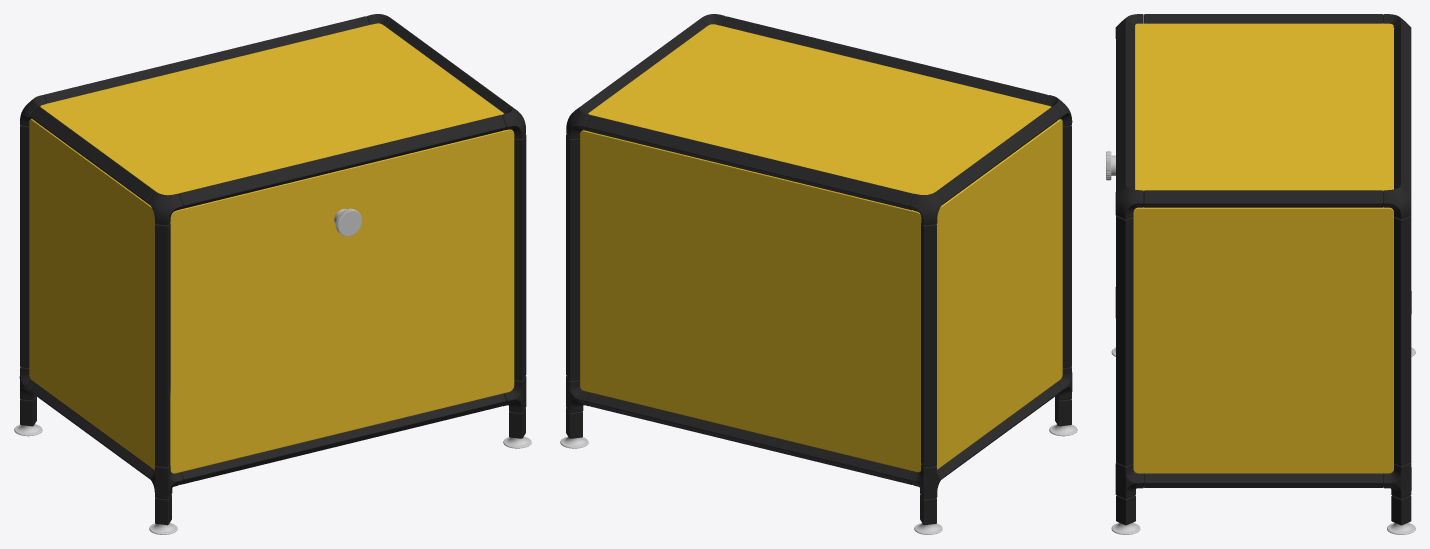
The picture shows the model from 3 angles, left to right: view 1: azimuth 30°, elevation 25°; view 2: azimuth 150°, elevation 25°; view 3: azimuth 270°, elevation 25°; orthographic projection. The views are drawn at different scales.
Parts seen in each view (by area): view 1: 523x329x374; view 2: 523x329x374; view 3: 523x329x374.
Part boxes in pixels (left/top/right/bottom): 523x329x374: left=14, top=14, right=531, bottom=534; 523x329x374: left=560, top=14, right=1077, bottom=534; 523x329x374: left=1106, top=14, right=1415, bottom=534.
Bounding box in the file's own units: 0.6129 × 0.5133 × 0.4257.
